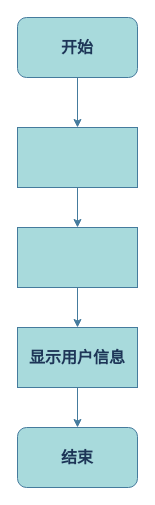
Some shapes in this 155 by 505 pixel diagram are drawn without their labels. Here are the shapes that lost their labels. From the top down, the centre of each, then its label:
the point at 77,157: 刷卡
the point at 77,257: 查询用户信息
